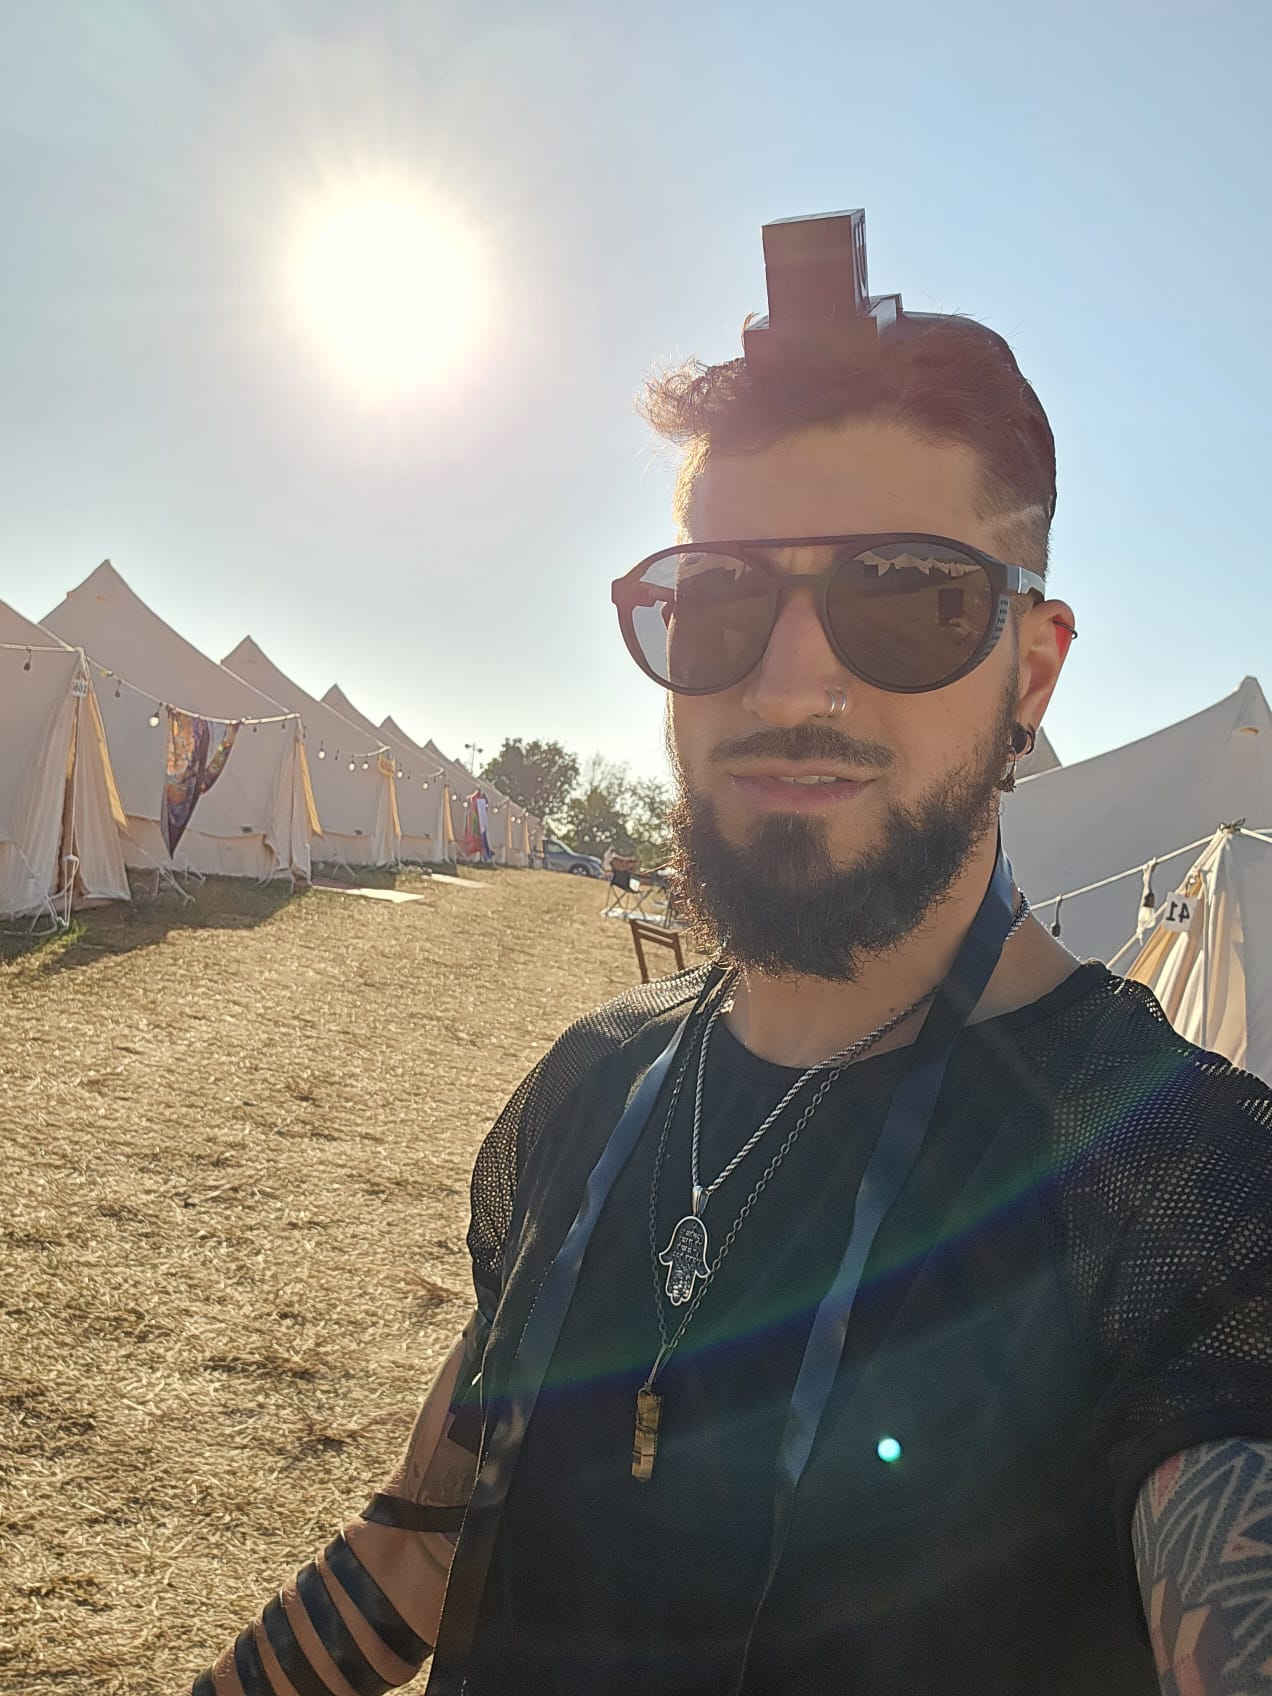tefillin: (742, 208, 906, 363)
